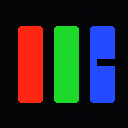3 line_h: (97, 59, 121, 65)
